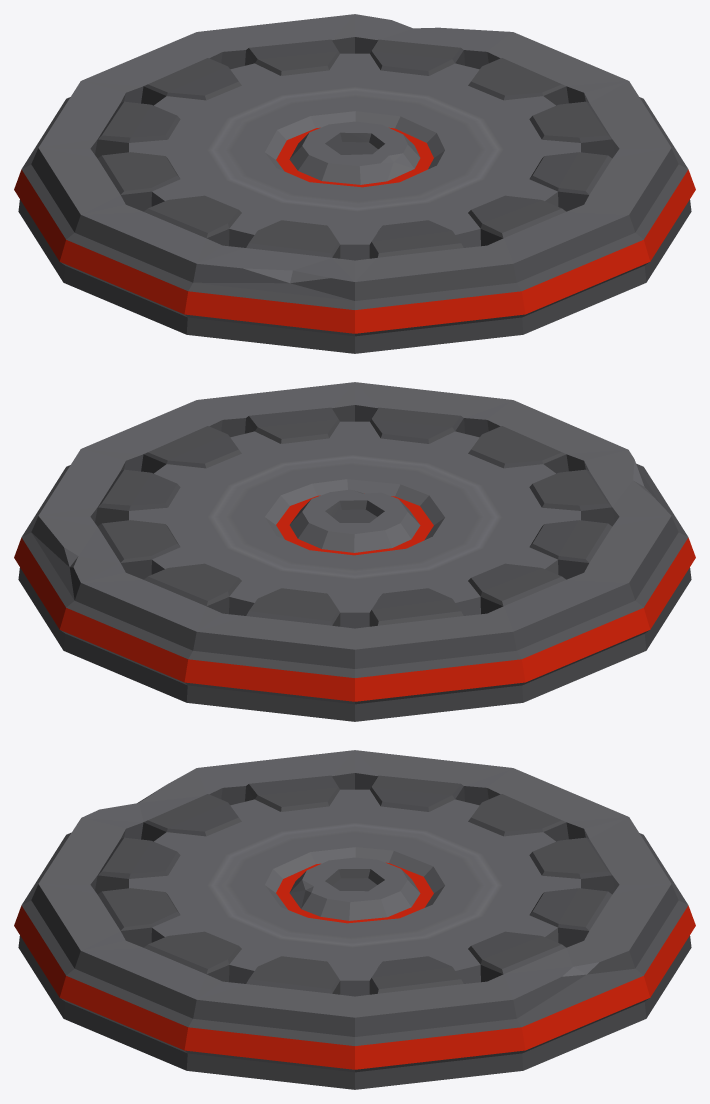
Rendered from SM_Prop_Manholes_01.fbx.
3 views of the same model, one above another, from view 1: azimuth 30°, elevation 25°; view 2: azimuth 150°, elevation 25°; view 3: azimuth 270°, elevation 25° (orthographic).
Parts seen in each view (by area): view 1: SM_Prop_Manholes_01; view 2: SM_Prop_Manholes_01; view 3: SM_Prop_Manholes_01.
Boxes of the visible parts, bbox=[...] form: SM_Prop_Manholes_01: bbox=[14, 14, 695, 353]; SM_Prop_Manholes_01: bbox=[14, 382, 695, 721]; SM_Prop_Manholes_01: bbox=[14, 750, 695, 1089].
Bounding box in the file's own units: 133 × 14.63 × 133.
